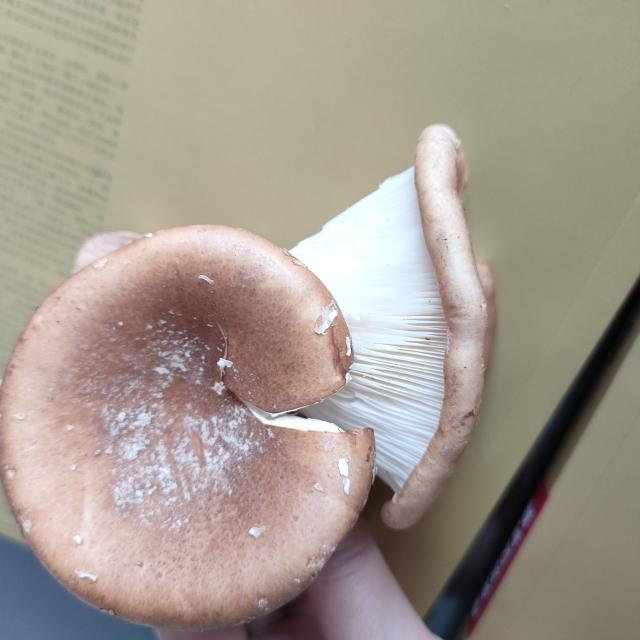Clitocybe maxima: (88, 124, 491, 527), (14, 225, 375, 631)
